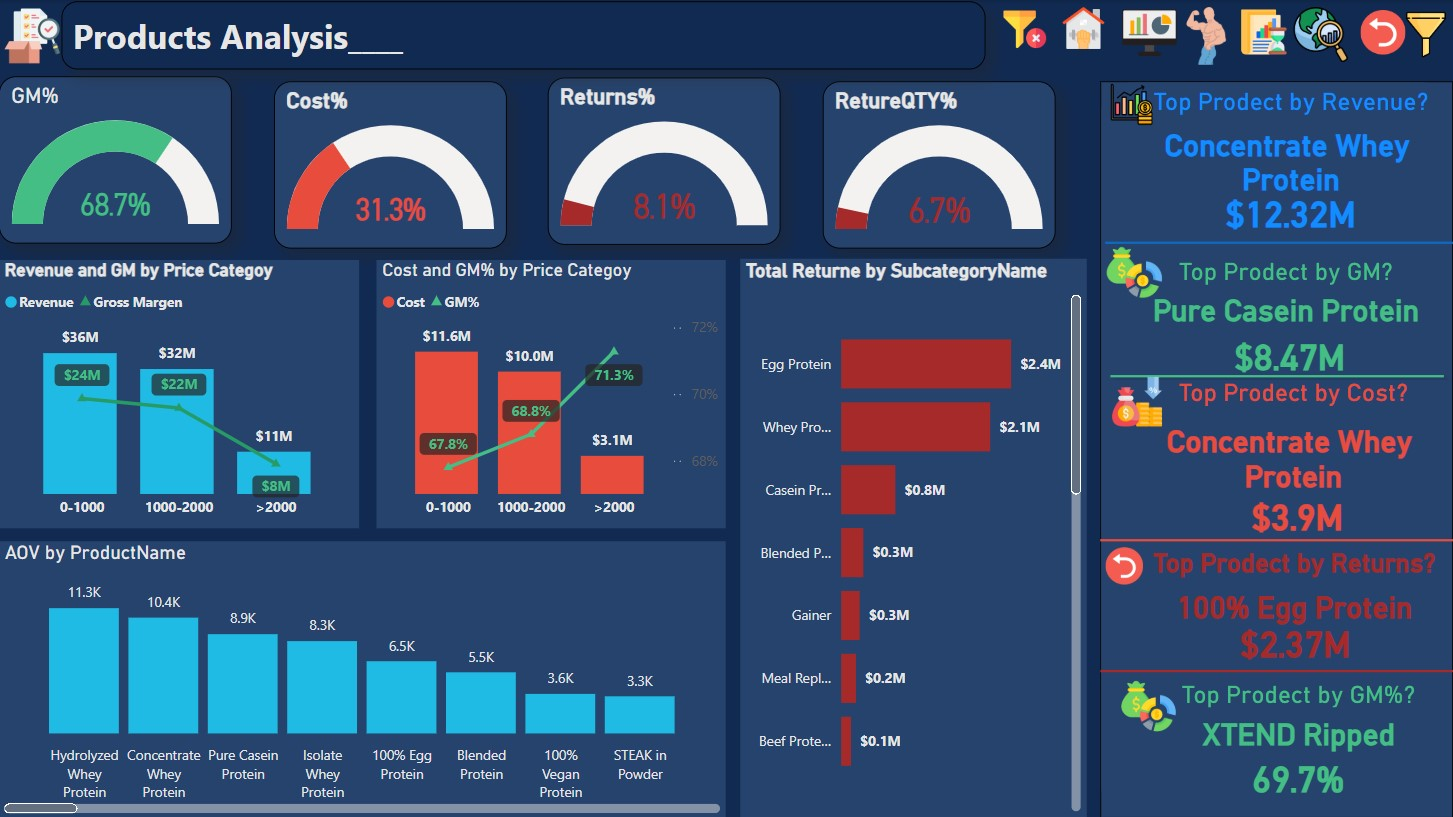

What the dashboard file says about the page in this screenshot:
{"tool":"powerbi","page":{"name":"Produect Analysis","canvas":[1280,720],"ordinal":4},"visuals":[{"type":"image","box":[0,0,58.7,63.7],"z":0,"group":"g2"},{"type":"image","box":[1230.3,0,50,61.2],"z":0,"group":"g1"},{"type":"gauge","fields":{"Y":["Calculation.GM%"]},"box":[0,67.2,204.5,146.8],"z":0},{"type":"shape","box":[969,79.6,310.4,639.3],"z":0,"group":"g3"},{"type":"actionButton","box":[55,1.1,836.8,60.5],"z":1000,"group":"g2"},{"type":"image","box":[876.8,2.5,52.5,47.5],"z":1000,"group":"g1"},{"type":"gauge","fields":{"Y":["Calculation.Returns%"]},"box":[483,68.6,204.5,146.8],"z":1000},{"type":"card","fields":{"Values":["Calculation.TopN REVEN"]},"box":[1035.6,152.5,201,82.3],"z":1000,"group":"g3"},{"type":"image","box":[1029.8,0,63.2,63.2],"z":2000,"group":"g1"},{"type":"gauge","fields":{"Y":["Calculation.Cost%"]},"box":[241.5,71.4,204.5,146.8],"z":2000},{"type":"card","title":"Top Prodect by Revenue?","fields":{"Values":["Min(dtbl_Product.ProductName)"]},"box":[996.1,84.9,281,103],"z":2000,"group":"g3"},{"type":"image","box":[1082.8,3.4,59.8,49.7],"z":3000,"group":"g1"},{"type":"gauge","title":"RetureQTY%","fields":{"Y":["Reture Analysis.%Reture QTY FOR TOATAL"]},"box":[724.5,71.4,204.5,146.8],"z":3000},{"type":"image","box":[973.2,71.5,46.2,55.7],"z":3000,"group":"g3"},{"type":"image","box":[1130.9,0,61.9,60.7],"z":4000,"group":"g1"},{"type":"card","title":"Top Prodect by GM?","fields":{"Values":["Min(dtbl_Product.ProductName)"]},"box":[983.8,232.6,296.1,66.4],"z":4000,"group":"g3"},{"type":"clusteredColumnChart","fields":{"Category":["dtbl_Product.ProductName"],"Y":["Customer Analysis.AOV"]},"box":[0,476.2,639.5,244.3],"z":4000},{"type":"image","box":[1192.8,0,48.8,57.1],"z":5000,"group":"g1"},{"type":"clusteredBarChart","fields":{"Y":["Calculation.Total Returne"],"Category":["dtbl_Product.SubcategoryName"]},"box":[651.8,227.8,304.6,491.3],"z":5000},{"type":"card","title":"Top Prodect by Cost?","fields":{"Values":["Min(dtbl_Product.ProductName)"]},"box":[997.5,338.3,282.4,112.4],"z":5000,"group":"g3"},{"type":"image","box":[980.5,0,62.5,57.5],"z":6000,"group":"g1"},{"type":"lineClusteredColumnComboChart","title":"Revenue and GM by Price Categoy","fields":{"Category":["ftbl_SalesDetails.GROPING PRICE"],"Y":["Calculation.Revenue"],"Y2":["Calculation.Gross Margen"]},"box":[0,229.2,317,236],"z":6000},{"type":"card","title":"Top Prodect by Returns?","fields":{"Values":["Min(dtbl_Product.ProductName)"]},"box":[1007.1,484.6,264.6,75.9],"z":6000,"group":"g3"},{"type":"image","title":"dddd","box":[929.3,0,50,50],"z":7000,"group":"g1"},{"type":"lineClusteredColumnComboChart","title":"Cost and GM% by Price Categoy","fields":{"Category":["ftbl_SalesDetails.GROPING PRICE"],"Y":["Calculation.Cost"],"Y2":["Calculation.GM%"]},"box":[332.1,229.2,307.4,236],"z":7000},{"type":"card","title":"Top Prodect by GM%?","fields":{"Values":["Min(dtbl_Product.ProductName)"]},"box":[1005.7,599.7,274.2,67.7],"z":7000,"group":"g3"},{"type":"shape","box":[972.9,201.7,306,24.7],"z":8000},{"type":"card","fields":{"Values":["Calculation.TopN RETUREN"]},"box":[1038.7,531.9,201.9,68],"z":8000,"group":"g3"},{"type":"shape","box":[968.8,322.5,311.5,12.3],"z":9000},{"type":"card","fields":{"Values":["Calculation.TopN COST"]},"box":[1041.4,415.5,201.5,82.6],"z":9000,"group":"g3"},{"type":"card","fields":{"Values":["Calculation.TopN GM"]},"box":[1034.5,282.7,201.5,69.1],"z":10000,"group":"g3"},{"type":"shape","box":[968.8,583.2,311.5,15.1],"z":10000},{"type":"shape","box":[968.8,467.9,311.5,13.7],"z":11000},{"type":"card","fields":{"Values":["Calculation.TopN GM%"]},"box":[1042,648.9,200.8,70.2],"z":11000,"group":"g3"},{"type":"group","id":"g1","title":"Group 1","box":[876.8,0,403.4,63.2],"z":12000},{"type":"image","box":[968.7,212.3,60.3,66.4],"z":12000,"group":"g3"},{"type":"group","id":"g2","title":"Group 2","box":[0,0,891.8,63.7],"z":13000},{"type":"image","box":[981,592.9,60.3,58.3],"z":13000,"group":"g3"},{"type":"group","id":"g3","title":"Group 3","box":[968.7,71.5,311.2,647.7],"z":14000},{"type":"image","box":[972.8,327.4,56.2,62.3],"z":14000,"group":"g3"},{"type":"group","id":"g4","title":"Group 4","box":[957.1,57.1,313.1,641.7],"z":15000},{"type":"image","box":[968.7,477.8,42.5,44.7],"z":15000,"group":"g3"}]}

Visuals, with their boxes in screenshot pixels (x1, y1, x2, y2), scaled from the page's 1280x720 canvas onto the 1453x817 screenshot:
image: 0/0/67/72
image: 1397/0/1452/69
gauge - Calculation.GM%: 0/76/232/243
shape: 1100/90/1452/816
actionButton: 62/1/1012/70
image: 995/3/1055/57
gauge - Calculation.Returns%: 548/78/780/244
card - Calculation.TopN REVEN: 1176/173/1404/266
image: 1169/0/1241/72
gauge - Calculation.Cost%: 274/81/506/248
"Top Prodect by Revenue?" card: 1131/96/1450/213
image: 1229/4/1297/60
"RetureQTY%" gauge: 822/81/1055/248
image: 1105/81/1157/144
image: 1284/0/1354/69
"Top Prodect by GM?" card: 1117/264/1452/339
clusteredColumnChart - dtbl_Product.ProductName x Customer Analysis.AOV: 0/540/726/816
image: 1354/0/1409/65
clusteredBarChart - Calculation.Total Returne x dtbl_Product.SubcategoryName: 740/258/1086/816
"Top Prodect by Cost?" card: 1132/384/1452/511
image: 1113/0/1184/65
"Revenue and GM by Price Categoy" lineClusteredColumnComboChart: 0/260/360/528
"Top Prodect by Returns?" card: 1143/550/1444/636
"dddd" image: 1055/0/1112/57
"Cost and GM% by Price Categoy" lineClusteredColumnComboChart: 377/260/726/528
"Top Prodect by GM%?" card: 1142/680/1452/757
shape: 1104/229/1452/257
card - Calculation.TopN RETUREN: 1179/604/1408/681
shape: 1100/366/1452/380
card - Calculation.TopN COST: 1182/471/1411/565
card - Calculation.TopN GM: 1174/321/1403/399
shape: 1100/662/1452/679
shape: 1100/531/1452/546
card - Calculation.TopN GM%: 1183/736/1411/816
"Group 1" group: 995/0/1452/72
image: 1100/241/1168/316
"Group 2" group: 0/0/1012/72
image: 1114/673/1182/739
"Group 3" group: 1100/81/1452/816
image: 1104/372/1168/442
"Group 4" group: 1086/65/1442/793
image: 1100/542/1148/593
